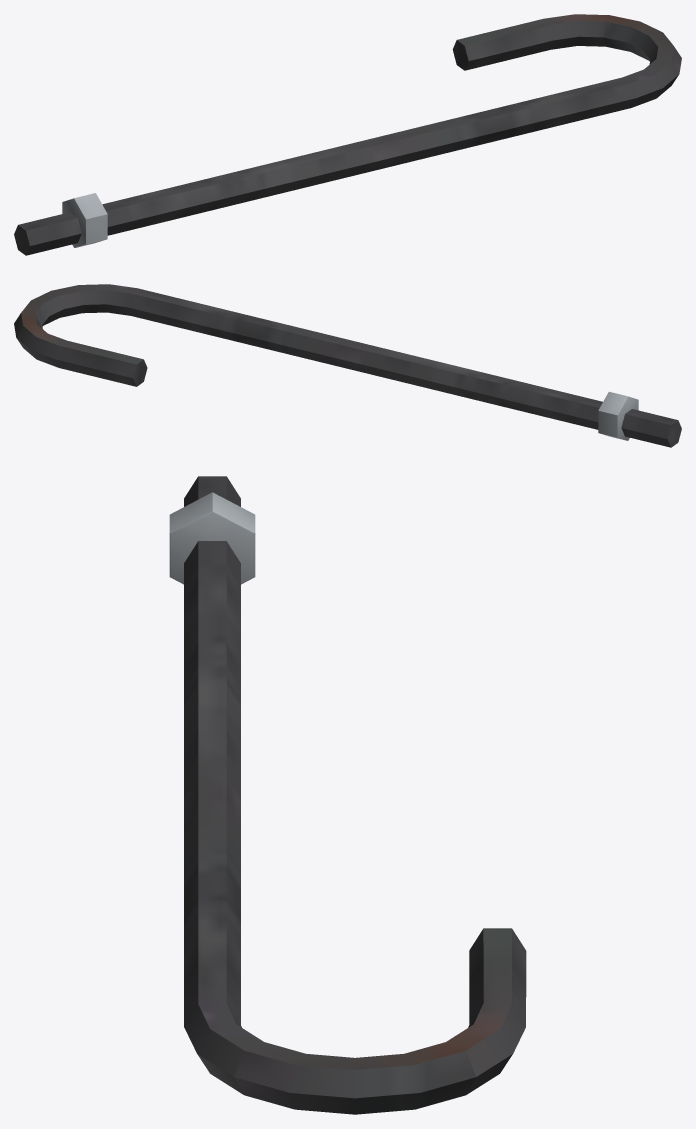
Rendered from EST-MET-007_lod1.glb.
3 renders of one model, top to bottom at view 1: azimuth 30°, elevation 25°; view 2: azimuth 150°, elevation 25°; view 3: azimuth 270°, elevation 25°, orthographic. The views are drawn at different scales.
Visible parts, largest first — view 1: EST-MET-007_chumbador, EST-MET-007_porca; view 2: EST-MET-007_chumbador, EST-MET-007_porca; view 3: EST-MET-007_chumbador, EST-MET-007_porca.
Boxes of the visible parts, x1,y1,x2,y2 form: EST-MET-007_chumbador: (14, 14, 681, 255); EST-MET-007_porca: (62, 193, 107, 247); EST-MET-007_chumbador: (14, 284, 681, 447); EST-MET-007_porca: (598, 391, 638, 440); EST-MET-007_chumbador: (184, 476, 526, 1114); EST-MET-007_porca: (169, 492, 255, 584).
Bounding box in the file's own units: 0.398 × 0.0277 × 0.1.
2 materials, 2 textured.
